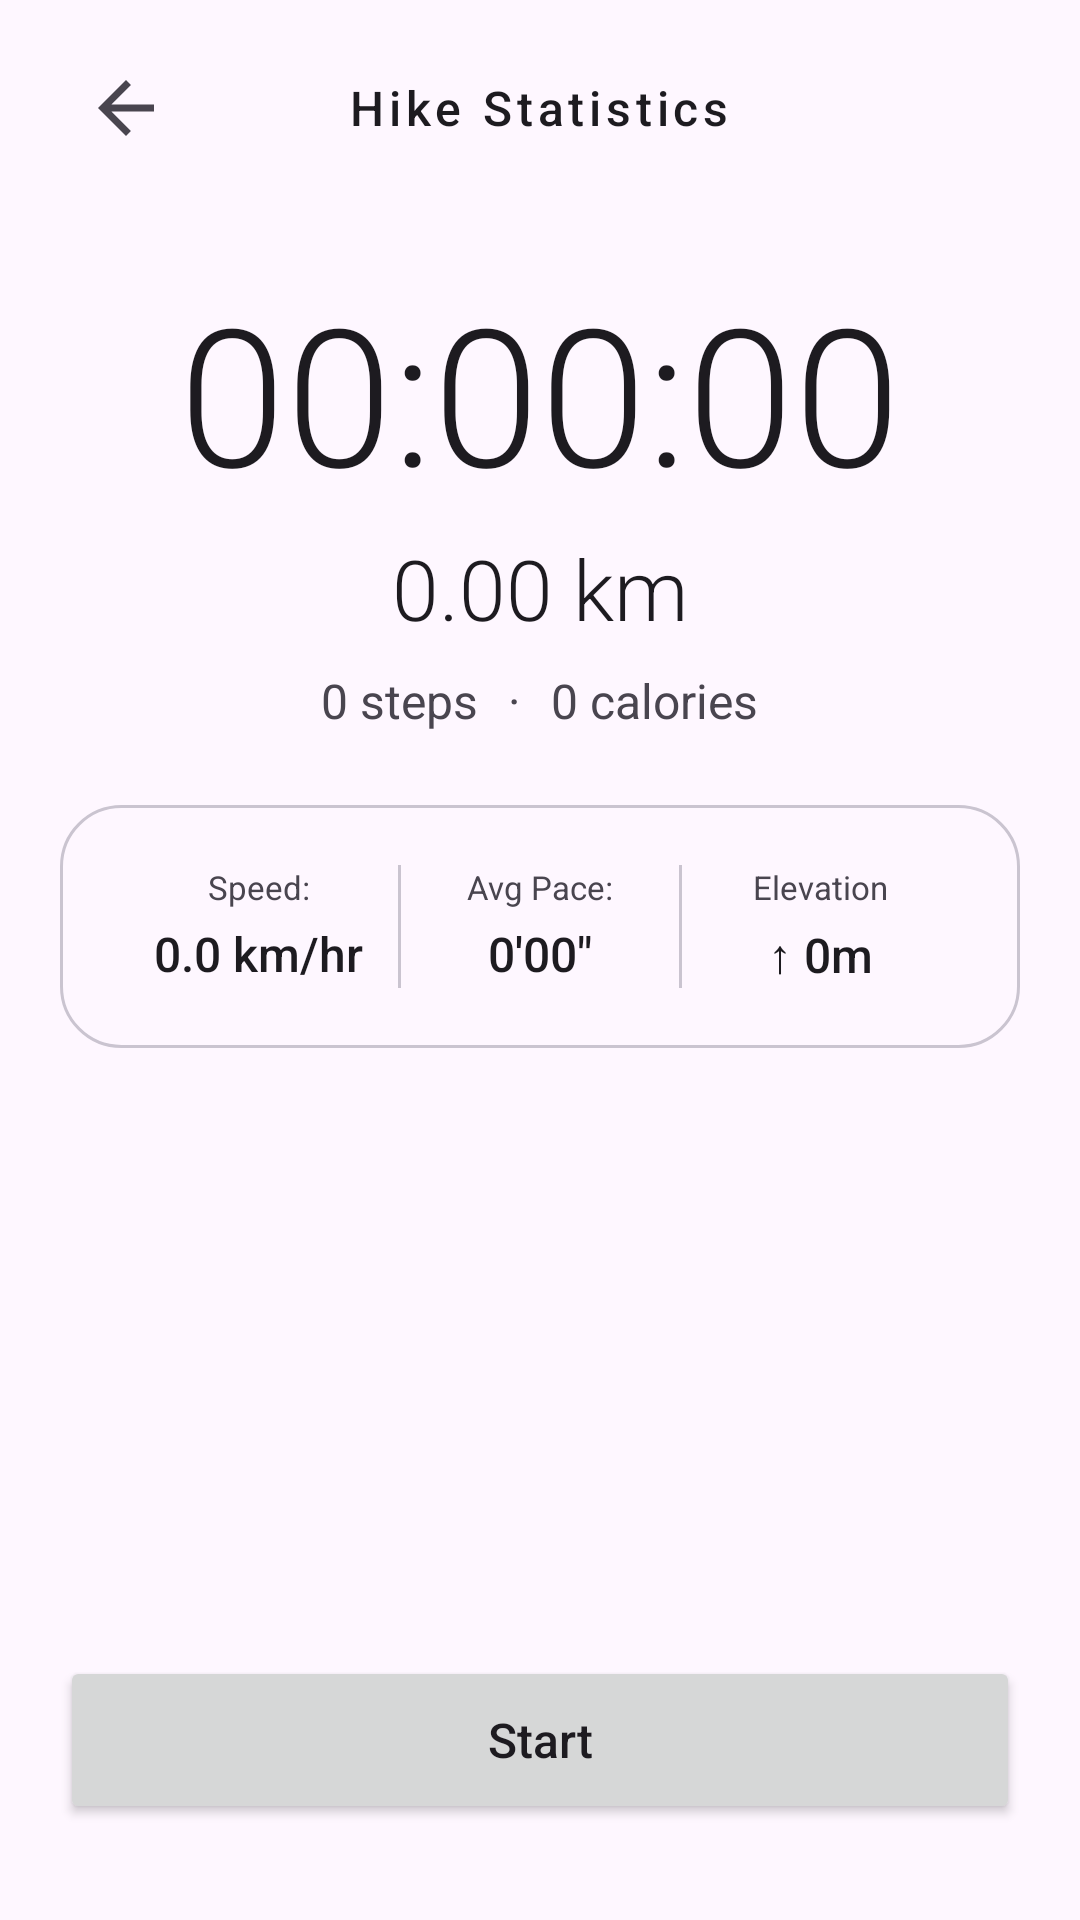

Where icons sit on this 1080w x 1920h app screen, as bbox(x1, y1, x2, y2):
back: bbox(98, 80, 154, 136)
